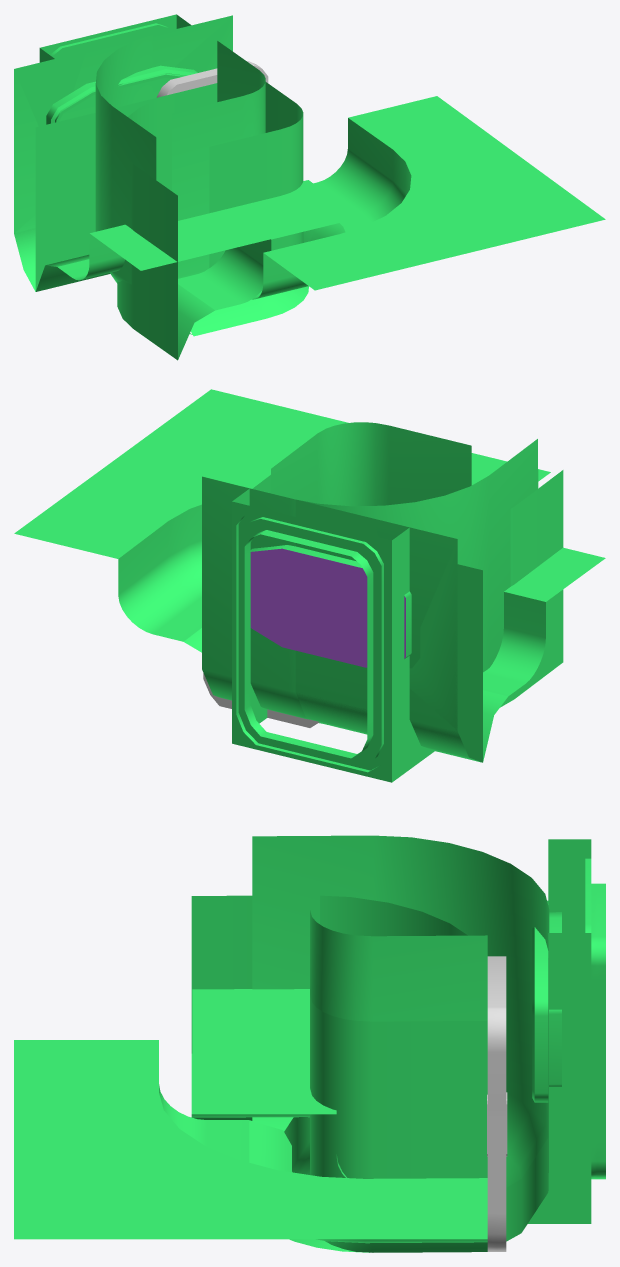
Rendered from Modulos.fbx.
3 views of the same model, one above another, from view 1: azimuth 30°, elevation 25°; view 2: azimuth 150°, elevation 25°; view 3: azimuth 270°, elevation 25° (orthographic). The views are drawn at different scales.
Parts seen in each view (by area): view 1: Top-Wall-ConvexCorner, ConvexCorner006, Top-Wall-Basic, Middle-Wall-Basic, Middle-Wall-ConcaveCorner, Bottom-Wall-ConcaveCorner, Middle-Wall-ConvexCorner, Bottom-Wall-Basic, Bottom-Wall-WithWindow, Top-Wall-ConcaveCorner, Bottom-Wall-WithDoor, Door; view 2: Top-Wall-ConvexCorner, Bottom-Wall-WithDoor, Bottom-Wall-ConcaveCorner, Bottom-Wall-WithWindow, ConvexCorner006, Bottom-Wall-Basic, Top-Wall-Basic, Middle-Wall-ConcaveCorner, Middle-Wall-Basic, Door; view 3: Top-Wall-ConvexCorner, Bottom-Wall-ConcaveCorner, Middle-Wall-ConvexCorner, Bottom-Wall-WithDoor, ConvexCorner006, Top-Wall-Basic, Middle-Wall-ConcaveCorner, Door, Bottom-Wall-WithWindow, Bottom-Wall-Basic, Top-Wall-ConcaveCorner.
Boxes of the visible parts, x1,y1,x2,y2 form: Top-Wall-ConvexCorner: [252, 96, 605, 299]; ConvexCorner006: [172, 41, 308, 336]; Top-Wall-Basic: [36, 180, 359, 291]; Middle-Wall-Basic: [35, 83, 217, 291]; Middle-Wall-ConcaveCorner: [117, 93, 177, 360]; Bottom-Wall-ConcaveCorner: [95, 15, 232, 334]; Middle-Wall-ConvexCorner: [209, 82, 303, 267]; Bottom-Wall-Basic: [14, 16, 232, 291]; Bottom-Wall-WithWindow: [14, 16, 232, 287]; Top-Wall-ConcaveCorner: [123, 217, 359, 359]; Bottom-Wall-WithDoor: [14, 14, 232, 288]; Door: [156, 61, 268, 97]; Top-Wall-ConvexCorner: [14, 389, 550, 652]; Bottom-Wall-WithDoor: [232, 489, 469, 782]; Bottom-Wall-ConcaveCorner: [202, 439, 538, 719]; Bottom-Wall-WithWindow: [250, 493, 478, 761]; ConvexCorner006: [271, 422, 471, 506]; Bottom-Wall-Basic: [255, 489, 479, 761]; Top-Wall-Basic: [483, 547, 605, 761]; Middle-Wall-ConcaveCorner: [500, 470, 563, 707]; Middle-Wall-Basic: [457, 564, 482, 762]; Door: [203, 673, 319, 727]; Top-Wall-ConvexCorner: [14, 1040, 487, 1252]; Bottom-Wall-ConcaveCorner: [252, 835, 549, 1190]; Middle-Wall-ConvexCorner: [310, 995, 487, 1178]; Bottom-Wall-WithDoor: [506, 839, 605, 1239]; ConvexCorner006: [284, 910, 487, 1252]; Top-Wall-Basic: [192, 989, 346, 1177]; Middle-Wall-ConcaveCorner: [191, 895, 467, 1053]; Door: [487, 956, 507, 1251]; Bottom-Wall-WithWindow: [506, 900, 561, 1240]; Bottom-Wall-Basic: [506, 1138, 548, 1241]; Top-Wall-ConcaveCorner: [191, 1054, 344, 1176].
Bounding box in the file's own units: 5.5 × 2.72 × 5.01.
